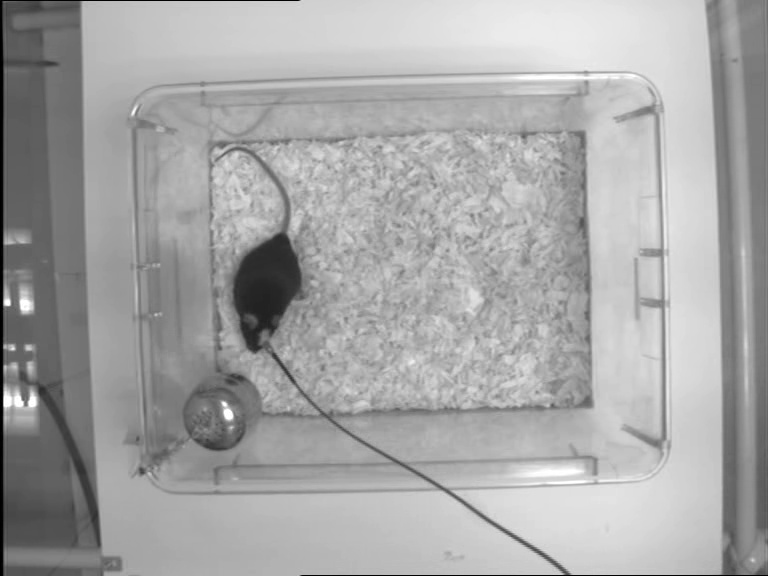mice: (210, 144, 305, 354)
